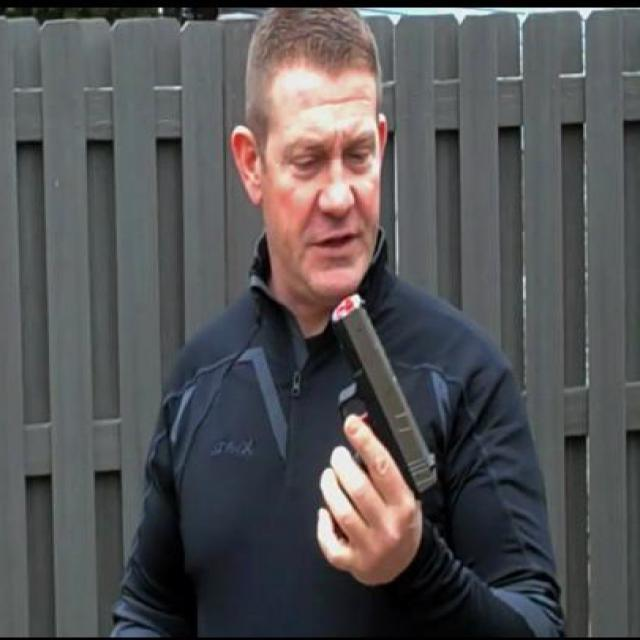Gun: (304, 284, 440, 560)
